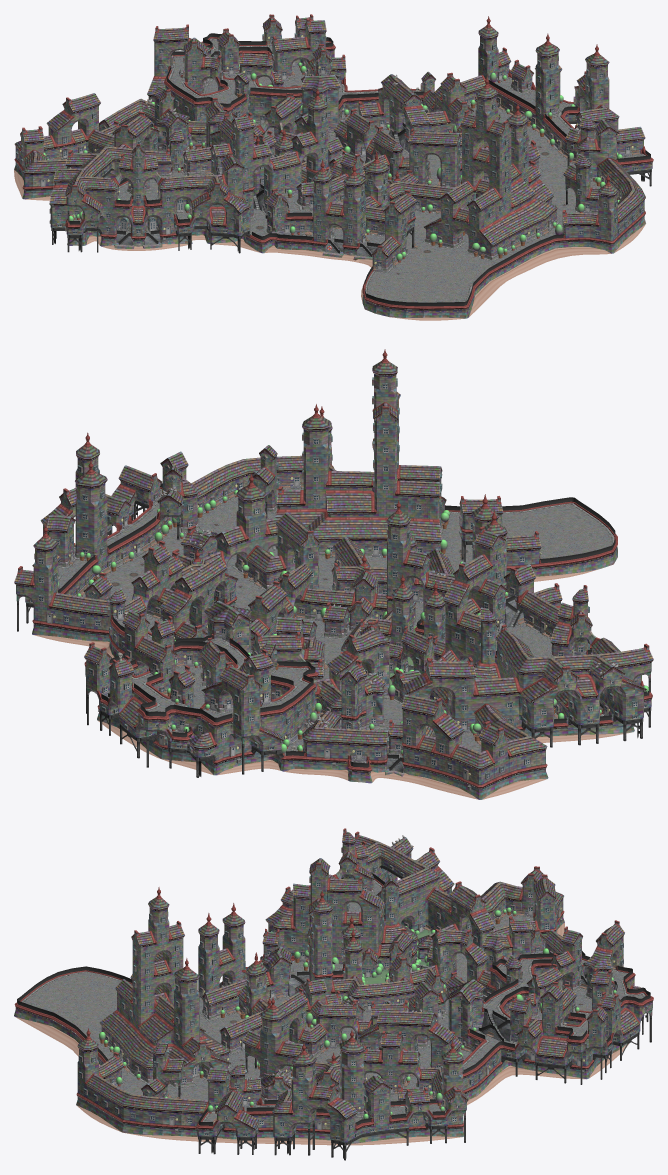
Rendered from First_att.glb.
The picture shows the model from 3 angles, top to bottom: view 1: azimuth 30°, elevation 25°; view 2: azimuth 150°, elevation 25°; view 3: azimuth 270°, elevation 25°; orthographic projection. The views are drawn at different scales.
Visible parts, largest first — view 1: House, Windows, Fencing, Sand, Props, Plants; view 2: House, Windows, Fencing, Sand, Props, Plants; view 3: House, Windows, Fencing, Sand, Props, Plants.
Boxes of the visible parts, box(x1,y1,x2,y2) form: House: box(14, 14, 653, 318); Windows: box(16, 33, 642, 269); Fencing: box(53, 33, 650, 306); Sand: box(14, 170, 645, 320); Props: box(47, 16, 639, 275); Plants: box(43, 62, 622, 260); House: box(14, 358, 653, 799); Windows: box(29, 377, 647, 780); Fencing: box(58, 483, 649, 776); Sand: box(34, 569, 631, 799); Props: box(43, 349, 610, 790); Plants: box(58, 482, 648, 753); House: box(14, 828, 653, 1160); Windows: box(78, 847, 648, 1140); Fencing: box(17, 873, 650, 1158); Sand: box(15, 922, 628, 1145); Props: box(86, 869, 615, 1133); Plants: box(99, 907, 616, 1119).
Size of what is drawn, in the model's own units: 35.28 by 10.77 by 35.77.
Materials: 2 (2 with a texture image).
